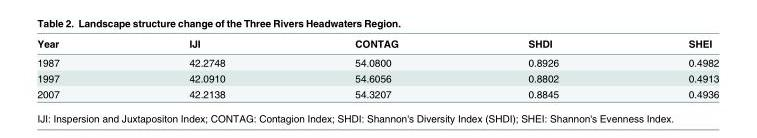table: (36, 37, 718, 99)
table column: (289, 37, 462, 99), (123, 37, 289, 99), (462, 37, 622, 99), (622, 37, 718, 99), (36, 37, 123, 99)
table column header: (36, 37, 718, 52)
table row: (36, 52, 718, 70), (36, 37, 718, 52), (36, 70, 718, 85), (36, 85, 718, 99)
